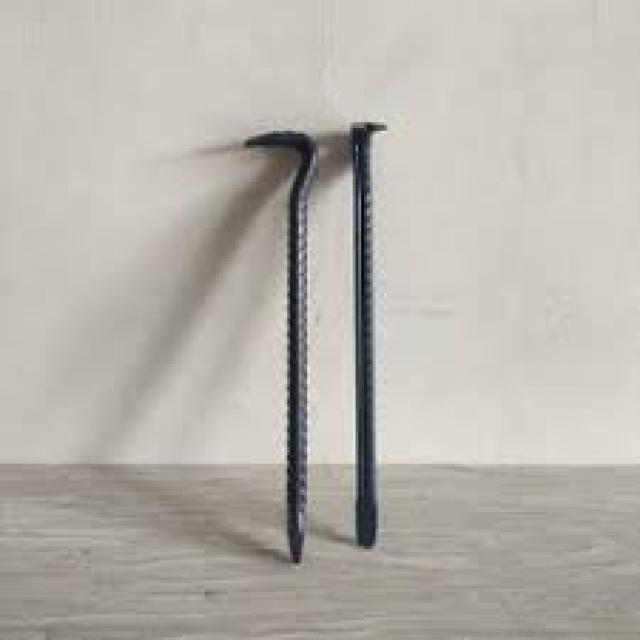Linggis: (248, 126, 334, 574), (326, 90, 406, 551)
